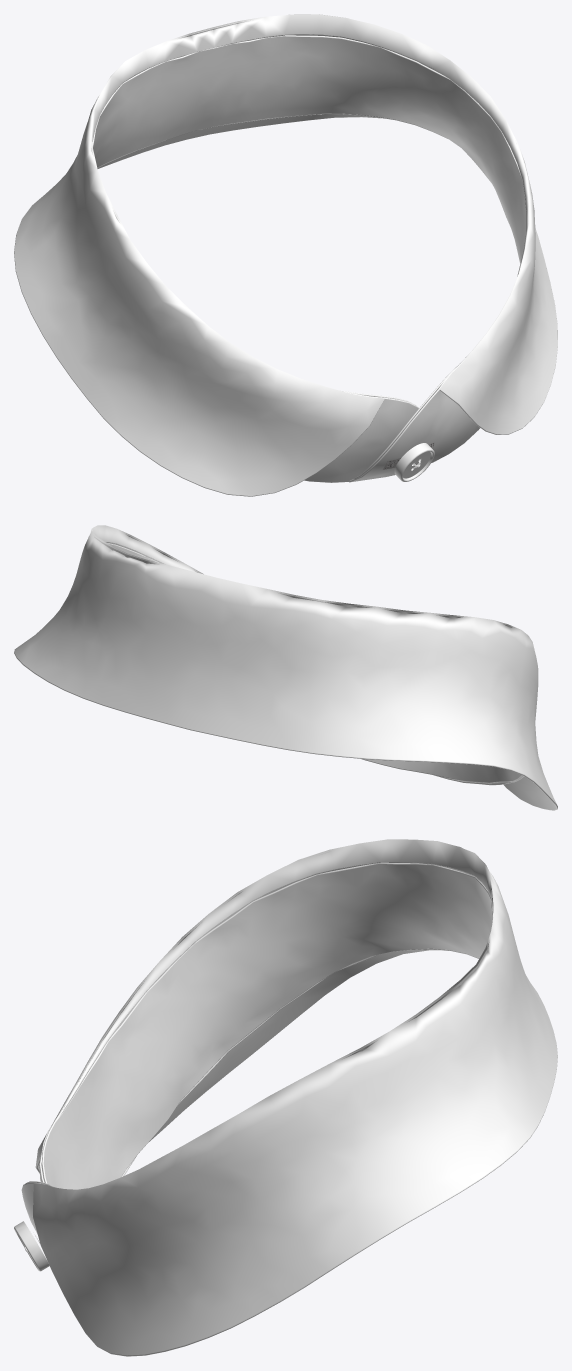
File: Rounded_Collar.glb
The picture shows the model from 3 angles, top to bottom: view 1: azimuth 30°, elevation 25°; view 2: azimuth 150°, elevation 25°; view 3: azimuth 270°, elevation 25°; orthographic projection. The views are drawn at different scales.
Visible parts, largest first — view 1: Pattern_4935173_Node, inner_Node, Pattern_4935171_Node, MatShape_451386_Node; view 2: Pattern_4935173_Node, inner_Node; view 3: Pattern_4935173_Node, inner_Node, Pattern_4935171_Node, MatShape_451386_Node.
Part boxes in pixels (<box>): Pattern_4935173_Node: <box>14,14,557,496</box>; inner_Node: <box>92,35,526,479</box>; Pattern_4935171_Node: <box>97,34,526,482</box>; MatShape_451386_Node: <box>394,443,434,481</box>; Pattern_4935173_Node: <box>14,525,557,810</box>; inner_Node: <box>108,543,522,783</box>; Pattern_4935173_Node: <box>32,839,557,1356</box>; inner_Node: <box>25,862,492,1189</box>; Pattern_4935171_Node: <box>21,862,486,1233</box>; MatShape_451386_Node: <box>14,1221,49,1271</box>.
Size of the model in its own units: 16.18 by 10.01 by 13.26.
Materials: 12 (1 with a texture image).
